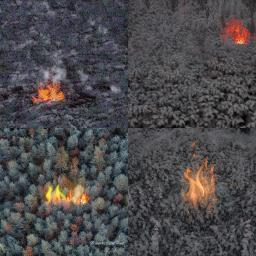Small fire: (181, 152, 217, 207), (38, 185, 90, 209), (222, 16, 249, 55), (36, 78, 66, 99)
